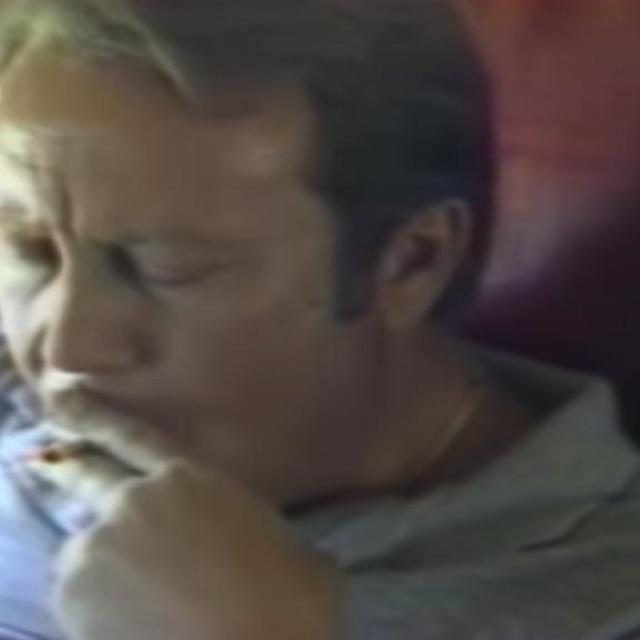cigarette: (19, 384, 152, 485)
